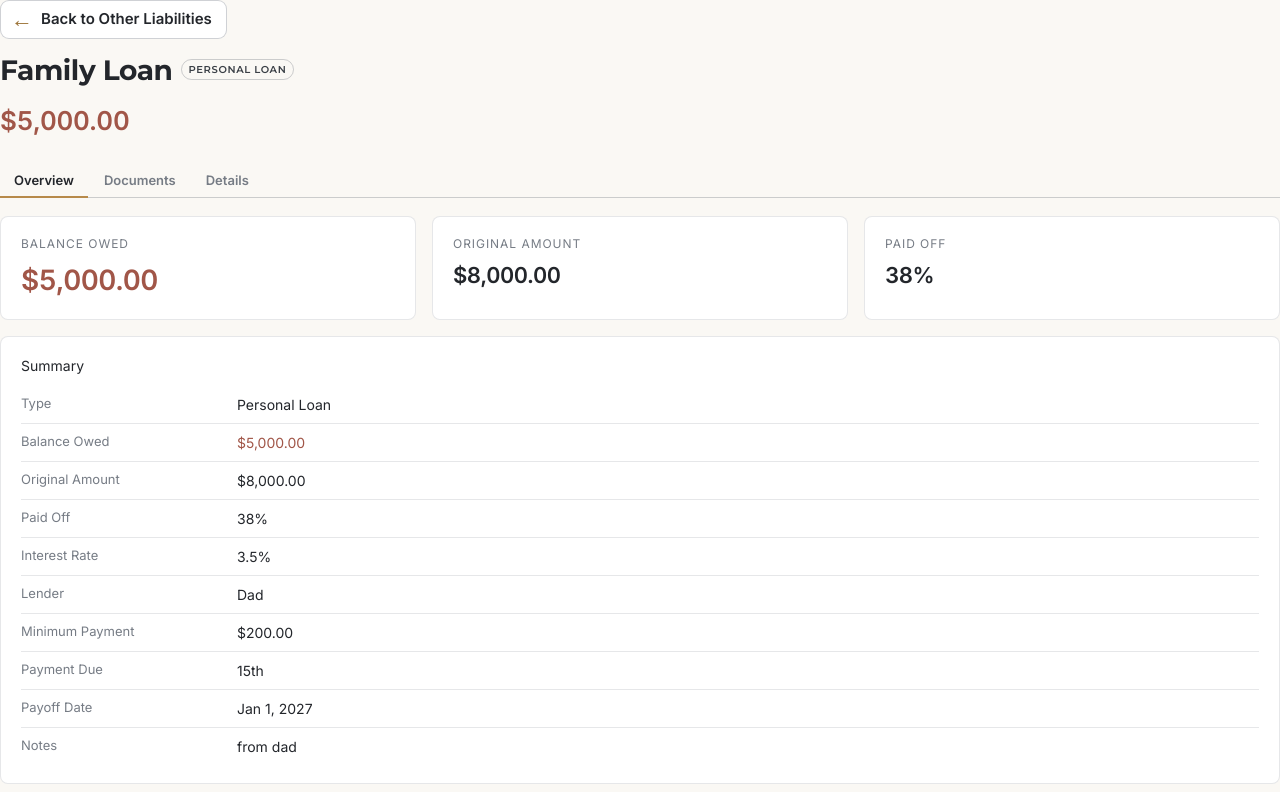
Test: LiabilityDetail page › surfaces a save error
Expected: the heading "Family Loan Personal Loan" is shown, top-left (0, 48), bottom-right (294, 90)
Click the button "Details" at x=227, y=180, box top-left (192, 164), bottom-right (263, 198)
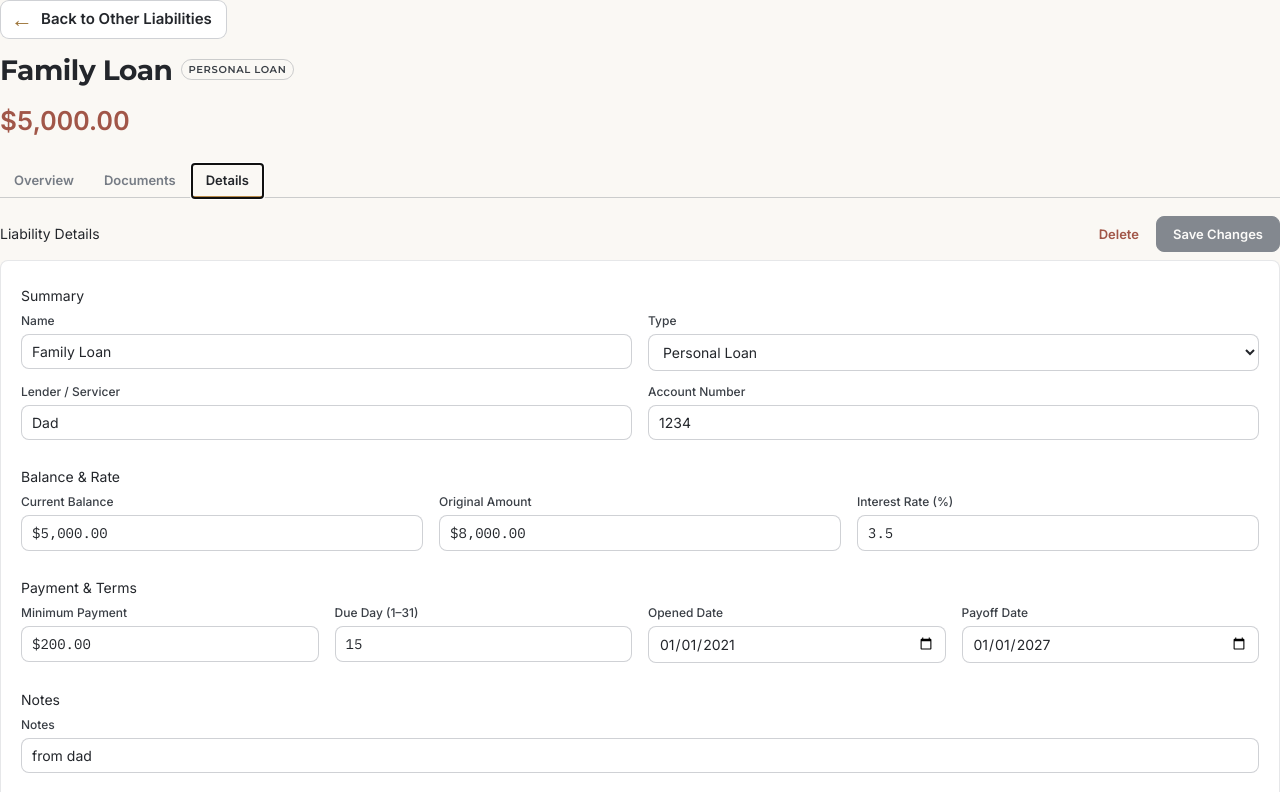
Replace the text in the field with placeholder "e.g. Family loan" with "Renamed" at x=326, y=351, box top-left (21, 334), bottom-right (632, 368)
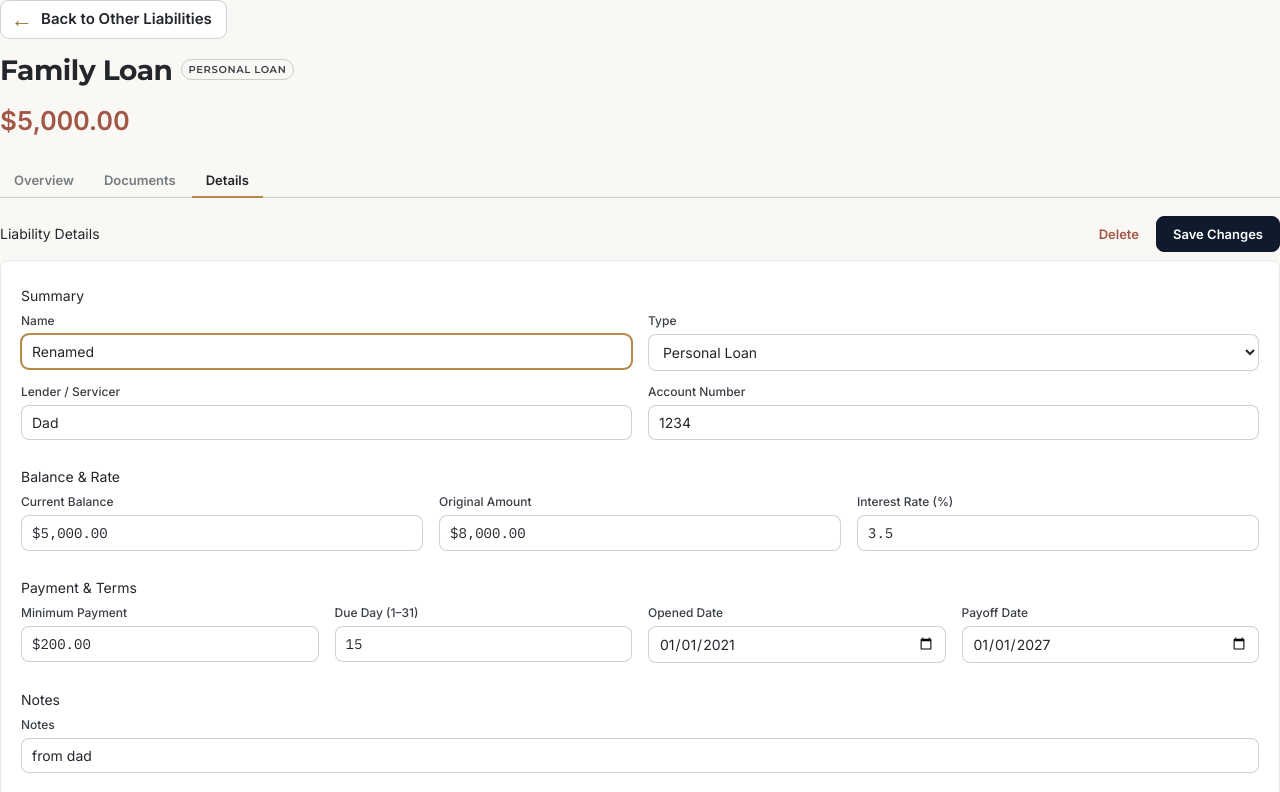
Click the button "Save Changes" at x=1218, y=234, box top-left (1156, 216), bottom-right (1279, 252)
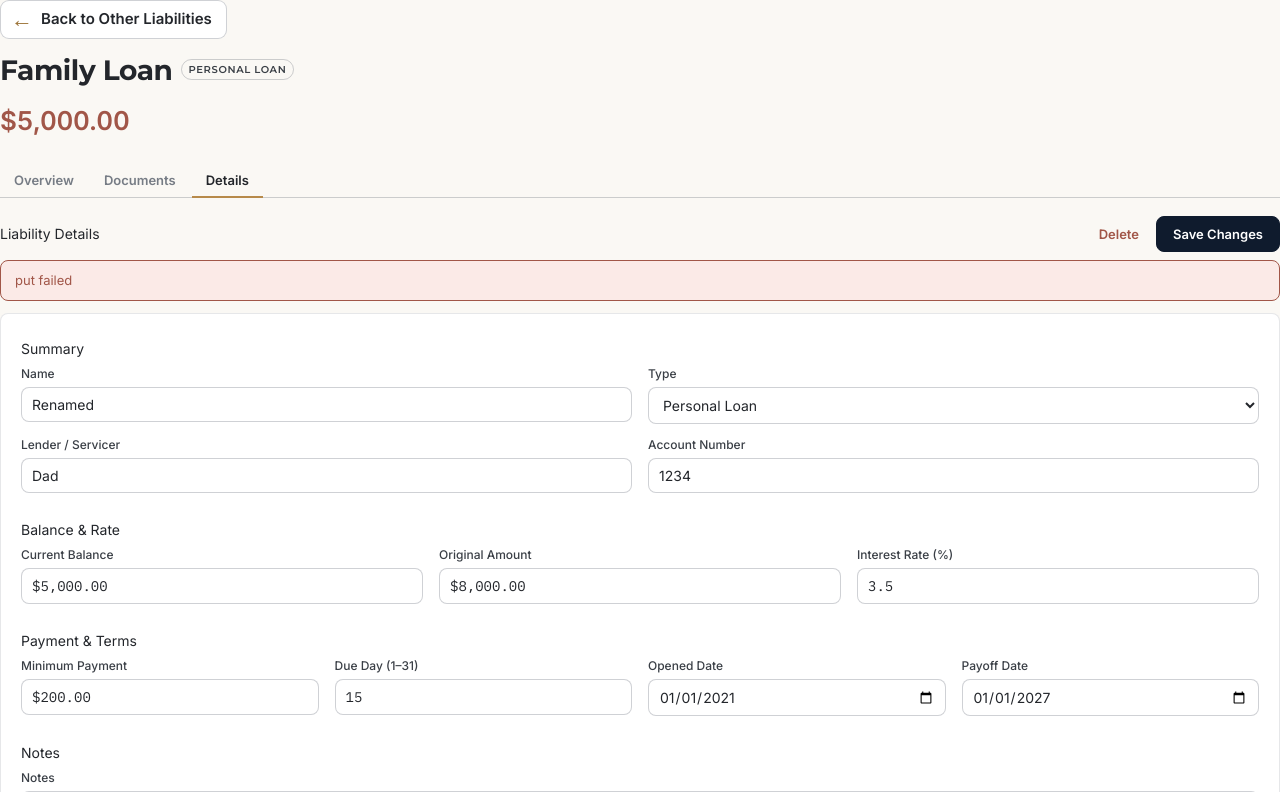
Result: the text "put failed" is shown at top-left (0, 260), bottom-right (1279, 301)
